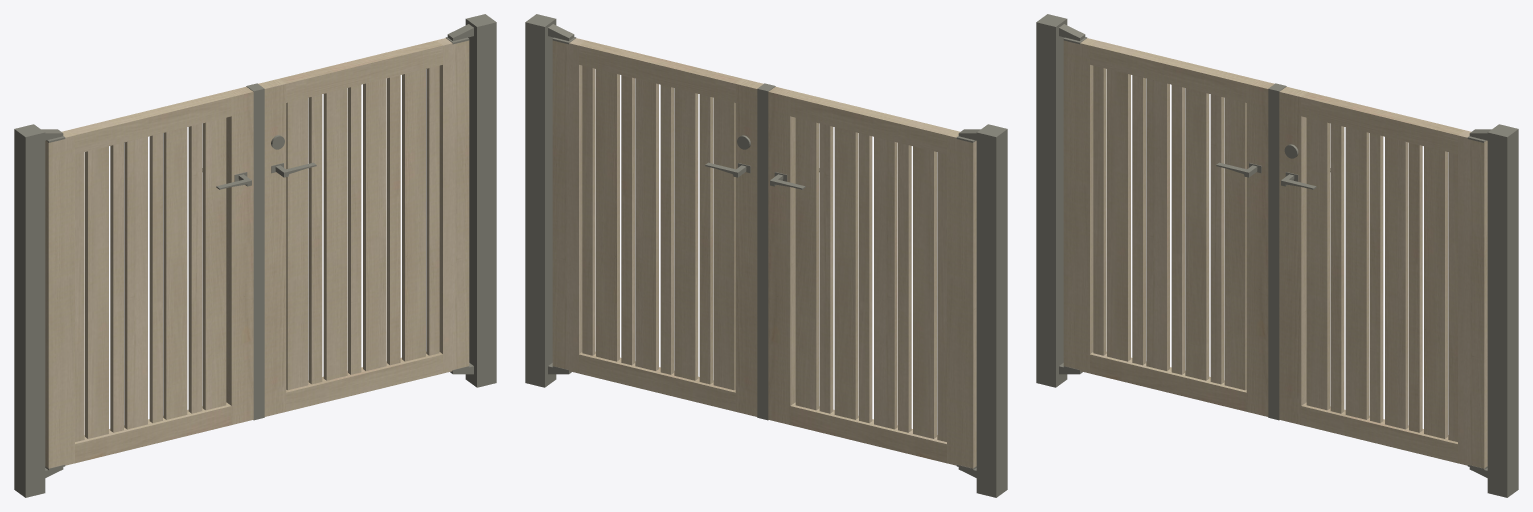
Rendered from awmonpi2-40-80tate_h1200-w800-800_springoak.fbx.
3 views of the same model, side by side, from view 1: azimuth 30°, elevation 25°; view 2: azimuth 150°, elevation 25°; view 3: azimuth 330°, elevation 25° (orthographic).
Parts seen in each view (by area): view 1: awmonpi2-40-80tate_h1200-w800-800_chacoalgray.005; view 2: awmonpi2-40-80tate_h1200-w800-800_chacoalgray.005; view 3: awmonpi2-40-80tate_h1200-w800-800_chacoalgray.005.
Part boxes in pixels (bbox=[...]): awmonpi2-40-80tate_h1200-w800-800_chacoalgray.005: bbox=[14, 14, 496, 497]; awmonpi2-40-80tate_h1200-w800-800_chacoalgray.005: bbox=[525, 14, 1007, 497]; awmonpi2-40-80tate_h1200-w800-800_chacoalgray.005: bbox=[1036, 14, 1518, 497].
Bounding box in the file's own units: 180 × 132 × 16.7.
Materials: 2 (2 with a texture image).
